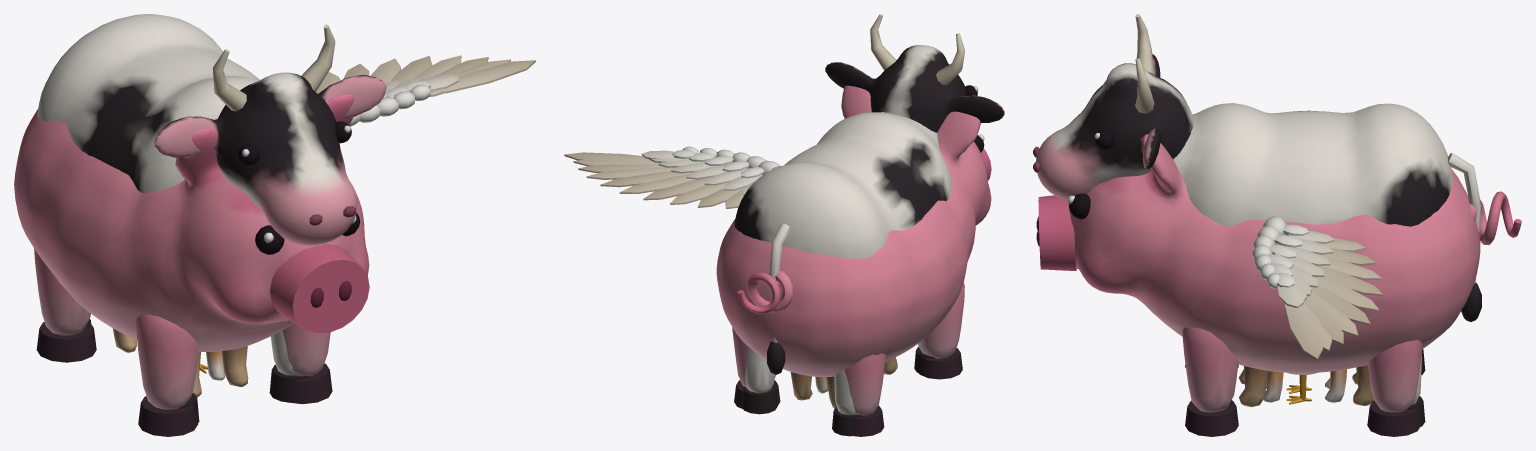
The model's file is critters.glb.
3 renders of one model, left to right at view 1: azimuth 30°, elevation 25°; view 2: azimuth 150°, elevation 25°; view 3: azimuth 270°, elevation 25°, orthographic. The views are drawn at different scales.
Visible parts, largest first — view 1: pig_body, cow_head, cow_body, pig_leg_fr, pig_wing, pig_leg_br, pig_leg_fl, cow_leg_fl, dog_leg_fl; view 2: pig_body, cow_body, cow_head, pig_wing, pig_leg_br, pig_leg_fr, cow_leg_bl, pig_tail, cow_leg_br, cow_tail, pig_leg_bl, dog_leg_bl; view 3: pig_body, cow_body, cow_head, pig_wing, pig_leg_fl, pig_leg_bl, cow_tail, pig_tail, dog_leg_fl, dog_leg_bl, cat_leg_bl, cat_leg_fl.
Part boxes in pixels (x1,y1,x2,y2): pig_body: [14, 94, 369, 351]; cow_head: [154, 24, 386, 245]; cow_body: [37, 14, 260, 193]; pig_leg_fr: [135, 314, 198, 436]; pig_wing: [316, 55, 535, 126]; pig_leg_br: [34, 248, 96, 362]; pig_leg_fl: [282, 323, 332, 404]; cow_leg_fl: [269, 330, 309, 401]; dog_leg_fl: [222, 346, 248, 386]; pig_body: [716, 76, 991, 376]; cow_body: [734, 112, 951, 258]; cow_head: [825, 14, 1004, 132]; pig_wing: [564, 146, 781, 209]; pig_leg_br: [844, 353, 885, 436]; pig_leg_fr: [918, 282, 964, 379]; cow_leg_bl: [743, 347, 777, 414]; pig_tail: [737, 270, 793, 313]; cow_leg_br: [832, 370, 862, 436]; cow_tail: [767, 223, 790, 374]; pig_leg_bl: [732, 327, 780, 408]; dog_leg_bl: [790, 372, 812, 400]; pig_body: [1036, 134, 1480, 373]; cow_body: [1173, 103, 1453, 226]; cow_head: [1033, 14, 1194, 199]; pig_wing: [1252, 216, 1383, 360]; pig_leg_fl: [1182, 327, 1238, 436]; pig_leg_bl: [1367, 340, 1422, 436]; cow_tail: [1448, 153, 1481, 321]; pig_tail: [1468, 191, 1521, 245]; dog_leg_fl: [1239, 366, 1268, 407]; dog_leg_bl: [1353, 365, 1373, 405]; cat_leg_bl: [1325, 369, 1346, 402]; cat_leg_fl: [1263, 371, 1283, 402].
Bounding box in the file's own units: 3.98 × 3.14 × 3.86.
